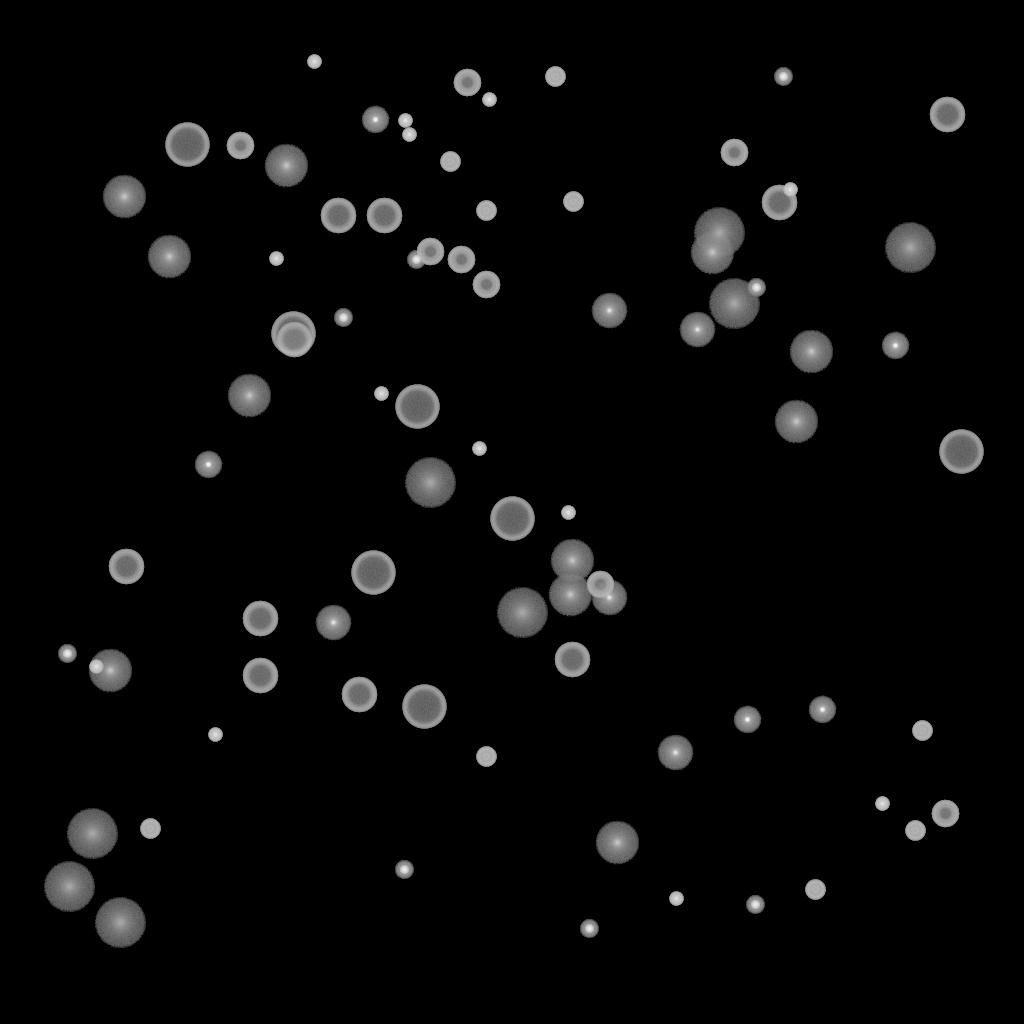depth:-10: (808, 696, 836, 724), (194, 451, 222, 479), (733, 706, 761, 734), (361, 106, 389, 134), (881, 332, 909, 360)
depth:-20: (334, 309, 352, 327), (407, 251, 425, 269), (580, 920, 598, 938), (747, 279, 765, 297), (774, 68, 792, 86), (395, 861, 413, 879), (58, 645, 76, 663), (746, 896, 764, 914)
depth:-30: (398, 114, 412, 128), (561, 506, 575, 520), (482, 93, 496, 107), (89, 660, 103, 674), (269, 252, 283, 266), (307, 55, 321, 69), (669, 892, 683, 906), (208, 728, 222, 742), (875, 797, 889, 811), (374, 387, 388, 401), (783, 183, 797, 197), (402, 128, 416, 142), (472, 442, 486, 456)
depth:-40: (476, 201, 496, 221), (476, 747, 496, 767), (563, 192, 583, 212), (440, 152, 460, 172), (805, 880, 825, 900), (545, 67, 565, 87), (905, 821, 925, 841), (140, 819, 160, 839), (912, 721, 932, 741)
depth:-50: (586, 571, 614, 599), (720, 139, 748, 167), (453, 69, 481, 97), (472, 271, 500, 299), (931, 800, 959, 828), (226, 132, 254, 160), (447, 246, 475, 274), (416, 238, 444, 266)
depth:-60: (929, 97, 965, 133), (242, 601, 278, 637), (320, 198, 356, 234), (341, 677, 377, 713), (366, 198, 402, 234), (276, 322, 312, 358), (761, 185, 797, 221), (242, 658, 278, 694), (108, 549, 144, 585), (554, 642, 590, 678)
depth:-70: (395, 385, 439, 429), (939, 430, 983, 474), (351, 551, 395, 595), (165, 123, 209, 167), (402, 685, 446, 729), (271, 312, 315, 356), (490, 497, 534, 541)
depth:0: (657, 735, 693, 771), (591, 293, 627, 329), (679, 312, 715, 348), (591, 580, 627, 616), (315, 605, 351, 641)
depth:10: (595, 821, 639, 865), (88, 649, 132, 693), (774, 400, 818, 444), (147, 235, 191, 279), (548, 573, 592, 617), (550, 539, 594, 583), (227, 374, 271, 418), (264, 144, 308, 188), (789, 330, 833, 374), (690, 231, 734, 275), (102, 175, 146, 219)
depth:20: (693, 208, 745, 258), (496, 588, 548, 638), (404, 458, 456, 508), (43, 862, 95, 912), (884, 223, 936, 273), (94, 898, 146, 948), (66, 809, 118, 859), (708, 279, 760, 329)
